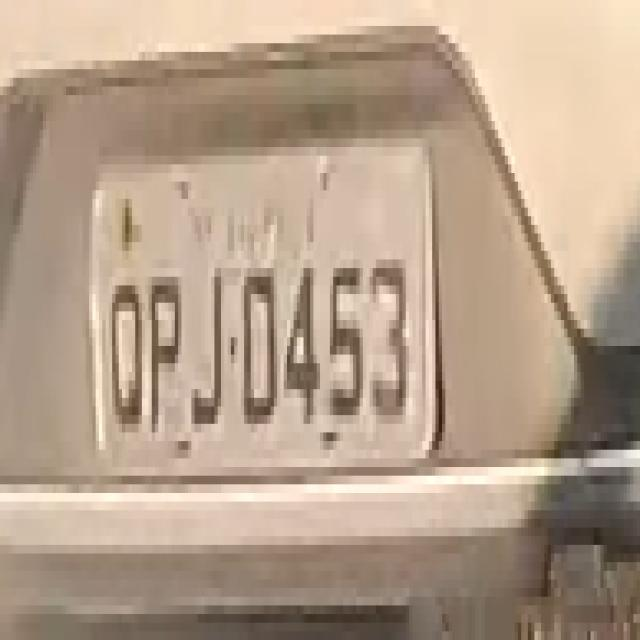Placa_mercosul_carro: (89, 141, 447, 463)
